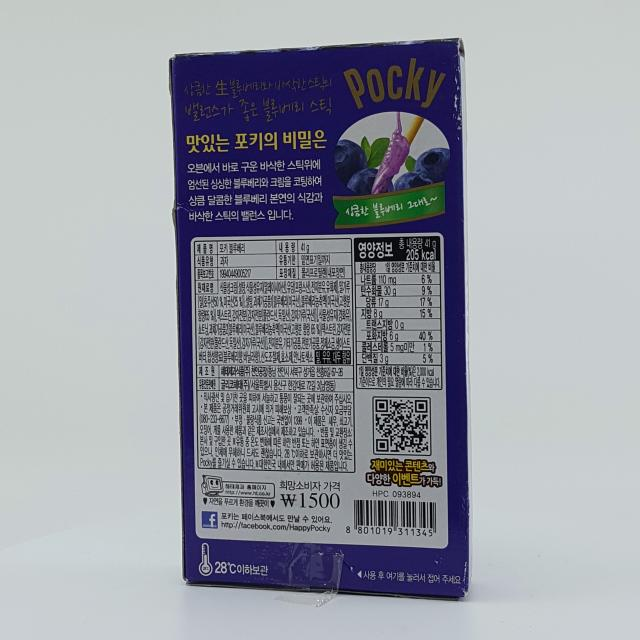-41G: (169, 39, 473, 602)
